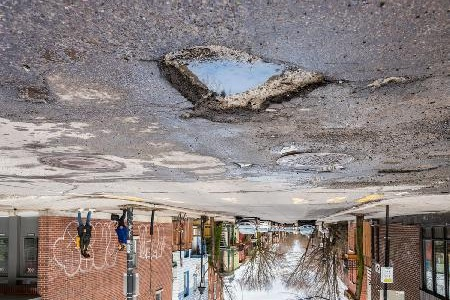pothole: (153, 42, 328, 126), (13, 79, 57, 106), (375, 161, 442, 177), (365, 74, 410, 92), (231, 159, 256, 170)
